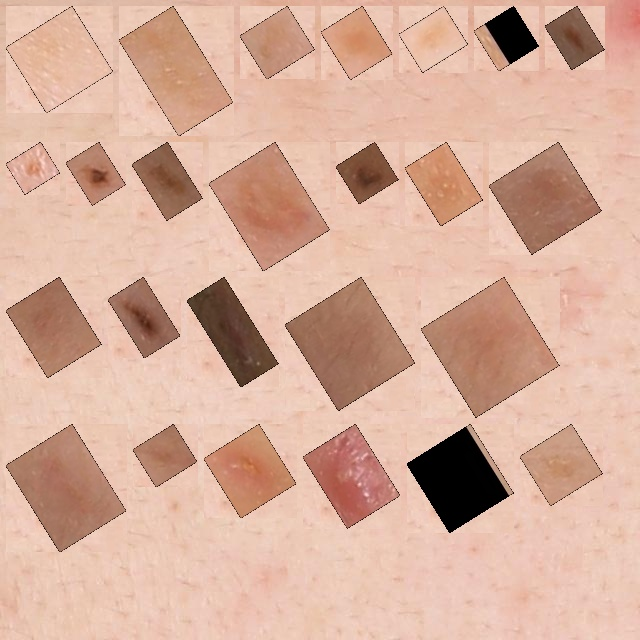melasma: (432, 288, 548, 406), (296, 288, 404, 399), (220, 153, 319, 260), (17, 435, 115, 541), (130, 17, 222, 125), (500, 153, 590, 243), (418, 435, 503, 521), (17, 17, 102, 102), (17, 288, 90, 366), (531, 435, 591, 494), (416, 153, 472, 215), (251, 17, 303, 68), (332, 17, 381, 68), (410, 17, 457, 61), (485, 17, 528, 60), (144, 435, 186, 476)
nevus: (119, 288, 169, 347), (347, 153, 387, 193), (77, 153, 115, 194), (556, 17, 593, 58), (17, 153, 49, 183)
pustule: (314, 435, 389, 517), (198, 288, 267, 376), (215, 435, 285, 507)
